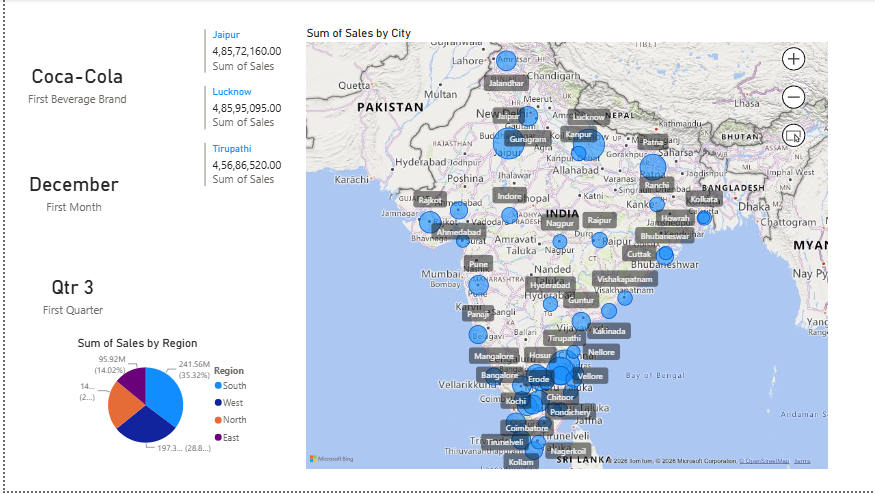

Layout of this report page (visuals, bound fields, positions):
{"tool":"powerbi","page":{"name":"Page 5","canvas":[1280,720],"ordinal":4},"visuals":[{"type":"card","fields":{"Values":["Min(BV India.Beverage Brand)"]},"box":[23.3,43.3,165,155],"z":0},{"type":"card","fields":{"Values":["Min(BV India.Date.Variation.Date Hierarchy.Month)"]},"box":[0,198.3,201.7,161.7],"z":1000},{"type":"card","fields":{"Values":["Min(BV India.Date.Variation.Date Hierarchy.Quarter)"]},"box":[23.3,348.3,151.7,163.3],"z":2000},{"type":"multiRowCard","fields":{"Values":["BV India.City","Sum(BV India.Sales)"]},"box":[286.7,40,216.7,278.3],"z":3000},{"type":"map","fields":{"Category":["BV India.City"],"Size":["Sum(BV India.Sales)"]},"box":[436.7,40,773.3,653.3],"z":4000},{"type":"pieChart","fields":{"Category":["BV India.Region"],"Y":["Sum(BV India.Sales)"]},"box":[100.8,493.9,273.8,183.1],"z":5000}]}

Visuals, with their boxes in screenshot pixels (x1, y1, x2, y2), scaled from the page's 1280x720 canvas onto the 875x494 screenshot:
card - Min(BV India.Beverage Brand): BBox(16, 30, 129, 136)
card - Min(BV India.Date.Variation.Date Hierarchy.Month): BBox(0, 136, 138, 247)
card - Min(BV India.Date.Variation.Date Hierarchy.Quarter): BBox(16, 239, 120, 351)
multiRowCard - BV India.City x Sum(BV India.Sales): BBox(196, 27, 344, 218)
map - BV India.City x Sum(BV India.Sales): BBox(299, 27, 827, 476)
pieChart - BV India.Region x Sum(BV India.Sales): BBox(69, 339, 256, 464)
